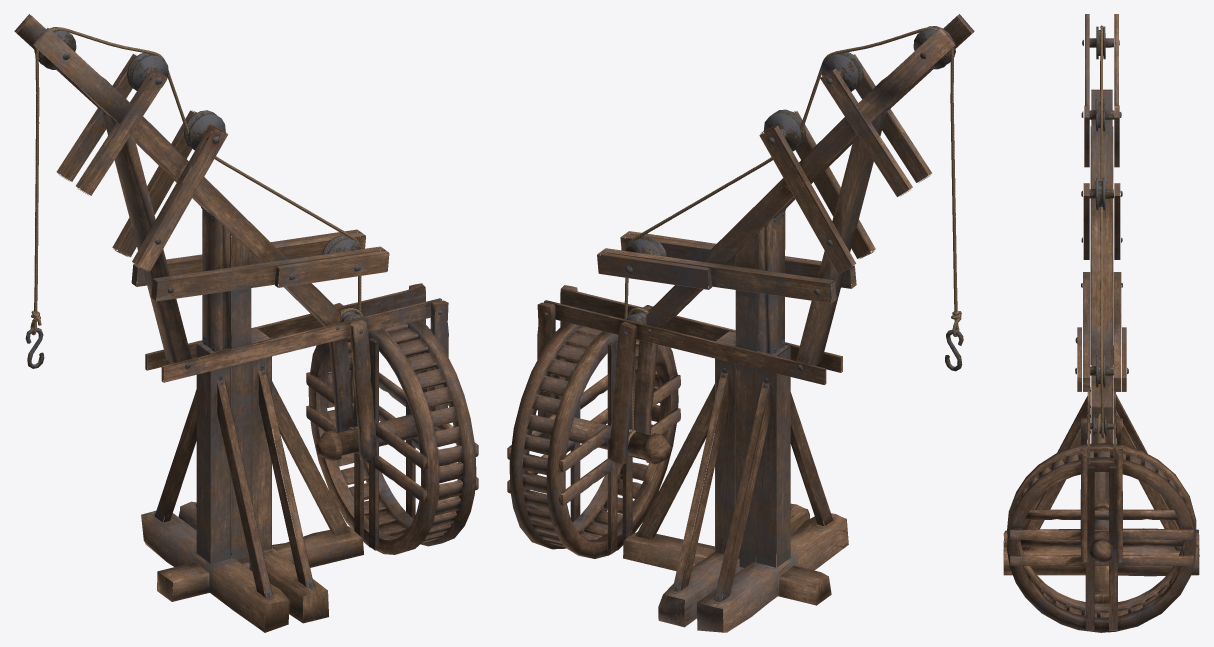
File: crane_wood.glb
3 views of the same model, side by side, from view 1: azimuth 30°, elevation 25°; view 2: azimuth 150°, elevation 25°; view 3: azimuth 270°, elevation 25° (orthographic). The views are drawn at different scales.
Visible parts, largest first — view 1: Object_10, Object_8, Object_6, Object_4; view 2: Object_10, Object_8, Object_6, Object_4; view 3: Object_8, Object_10, Object_6, Object_4.
Part boxes in pixels (bbox=[...]): Object_10: bbox=[14, 14, 389, 632]; Object_8: bbox=[145, 283, 478, 597]; Object_6: bbox=[25, 27, 441, 599]; Object_4: bbox=[30, 27, 363, 453]; Object_10: bbox=[597, 14, 974, 632]; Object_8: bbox=[507, 285, 842, 601]; Object_6: bbox=[544, 26, 963, 604]; Object_4: bbox=[624, 27, 961, 456]; Object_8: bbox=[1007, 346, 1196, 632]; Object_10: bbox=[1003, 14, 1199, 603]; Object_6: bbox=[1075, 26, 1128, 457]; Object_4: bbox=[1094, 25, 1103, 506].
Size of the model in its own units: 10.2 by 14.28 by 5.33.
Materials: 4 (4 with a texture image).
